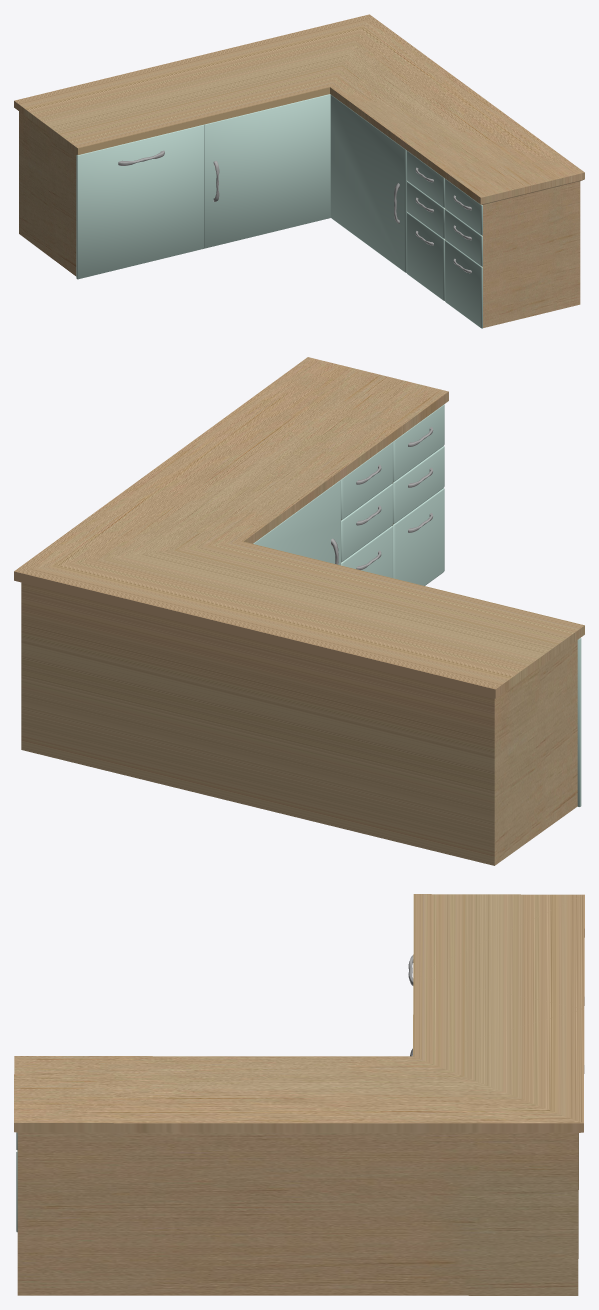
The model's file is encimera cocina.fbx.
3 renders of one model, top to bottom at view 1: azimuth 30°, elevation 25°; view 2: azimuth 150°, elevation 25°; view 3: azimuth 270°, elevation 25°, orthographic. The views are drawn at different scales.
Parts seen in each view (by area): view 1: Plane.005; view 2: Plane.005; view 3: Plane.005.
Part boxes in pixels (bbox=[...]): Plane.005: bbox=[14, 14, 584, 328]; Plane.005: bbox=[14, 357, 584, 865]; Plane.005: bbox=[14, 894, 584, 1295].
Size of the model in its own units: 1296 by 461 by 1363.
